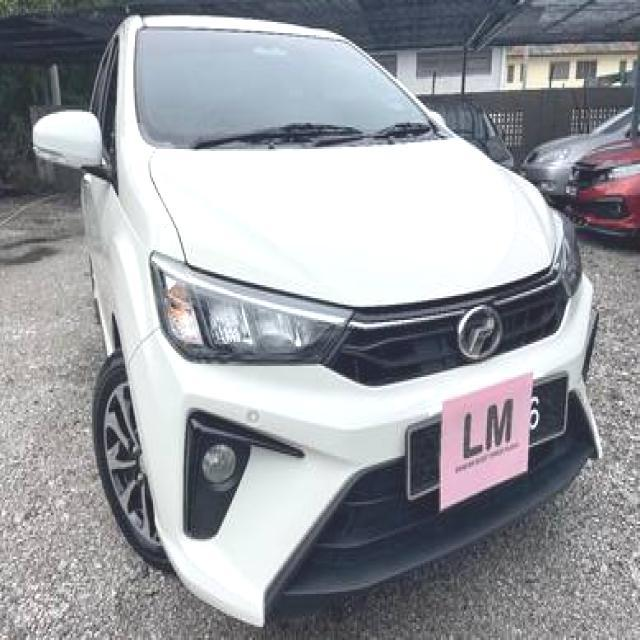PeroduaBezza: (30, 11, 603, 627)
